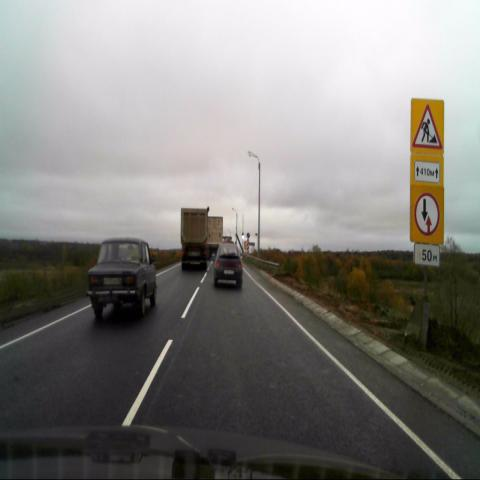2_6: (410, 188, 444, 244)
8_1_1: (414, 245, 439, 266)
